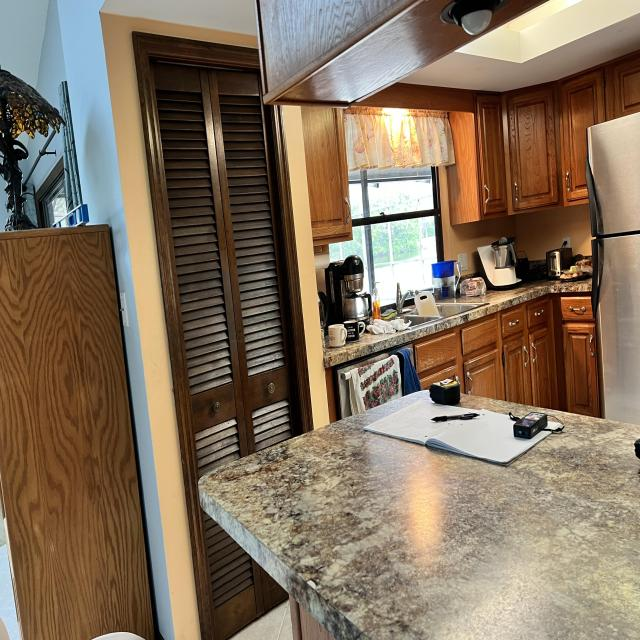Appliance_Fridge: (588, 112, 640, 427)
Cabinet_Flat: (415, 296, 593, 373)
Cabinet_Raised_Panel: (358, 52, 640, 218), (464, 323, 599, 417), (302, 105, 352, 247)
Countertop_Granite: (198, 390, 640, 640), (323, 275, 593, 369)
